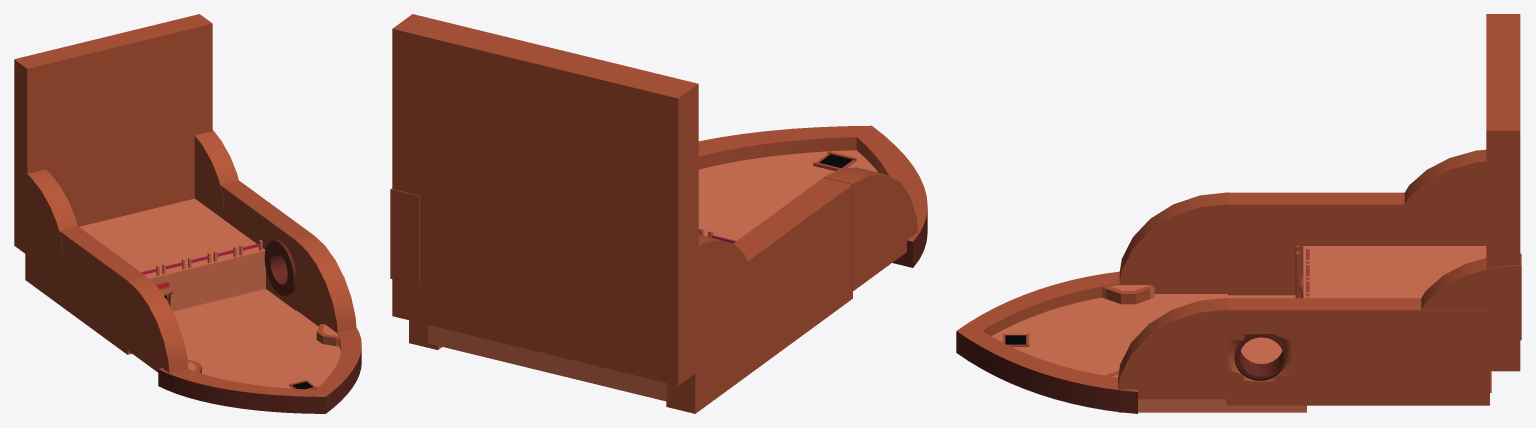
The model's file is bato.obj.
The picture shows the model from 3 angles, left to right: view 1: azimuth 30°, elevation 25°; view 2: azimuth 150°, elevation 25°; view 3: azimuth 270°, elevation 25°; orthographic projection. The views are drawn at different scales.
Visible parts, largest first — view 1: bato; view 2: bato; view 3: bato.
Part boxes in pixels (x1,y1,x2,y2): bato: (14, 14, 361, 413); bato: (390, 14, 927, 413); bato: (956, 14, 1521, 413).
Bounding box in the file's own units: 17.38 × 19.39 × 33.96.
